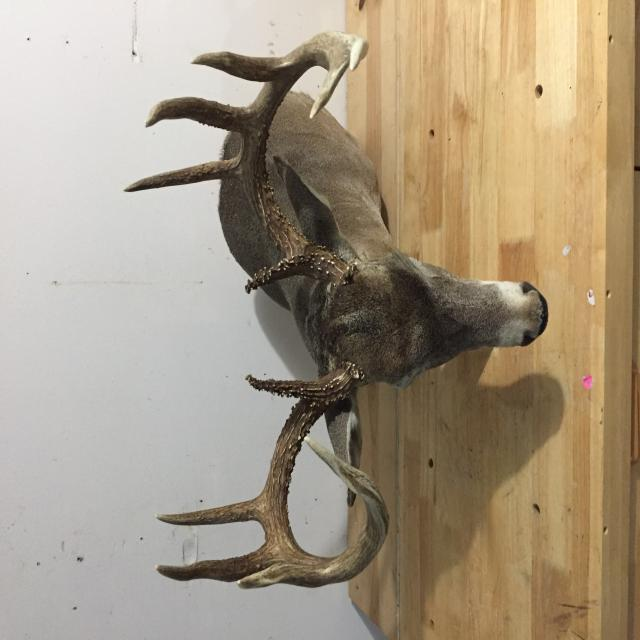L-F: (265, 322, 457, 492)
L-G1: (391, 412, 443, 466), (259, 327, 288, 400)
L-G2: (336, 164, 366, 323)
L-G3: (377, 193, 408, 334)
L-G4: (418, 254, 442, 375)
R-G1: (181, 325, 200, 419)
R-G2: (86, 206, 111, 350)
R-G4: (37, 316, 61, 454)
